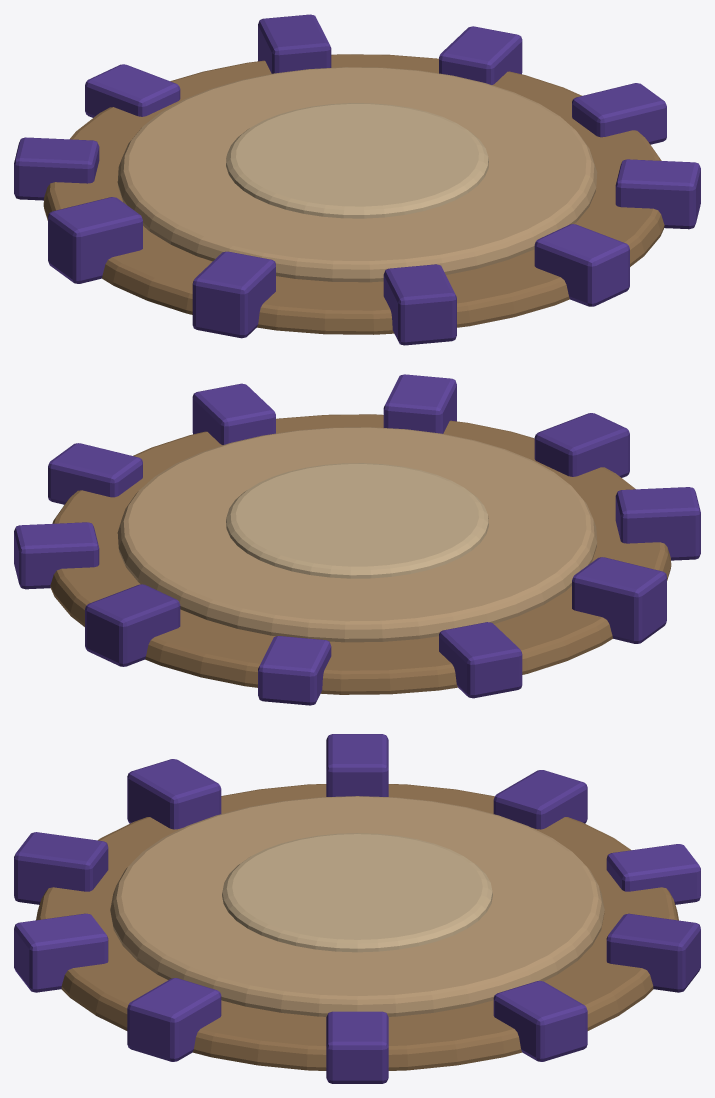
Rendered from exit.glb.
3 views of the same model, one above another, from view 1: azimuth 30°, elevation 25°; view 2: azimuth 150°, elevation 25°; view 3: azimuth 270°, elevation 25° (orthographic). The views are drawn at different scales.
Visible parts, largest first — view 1: Exit; view 2: Exit; view 3: Exit.
Boxes of the visible parts, box(x1,y1,x2,y2) form: Exit: box(14, 14, 700, 345); Exit: box(14, 374, 700, 705); Exit: box(14, 734, 700, 1083).
Bounding box in the file's own units: 1.02 × 0.0899 × 0.9923.
